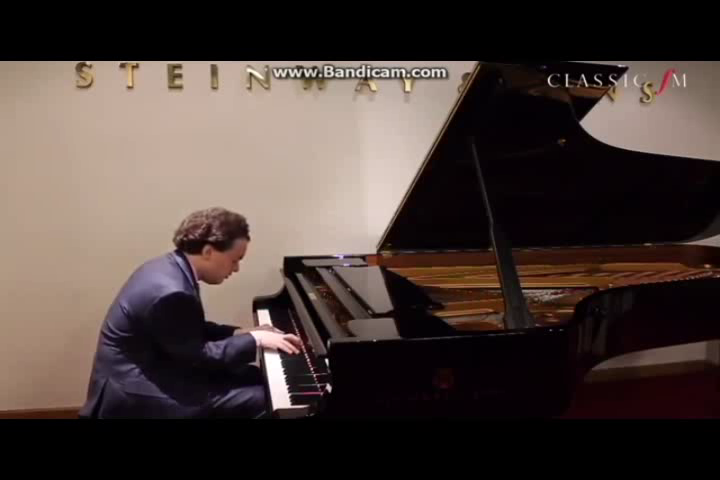keyboard: (250, 297, 334, 415)
